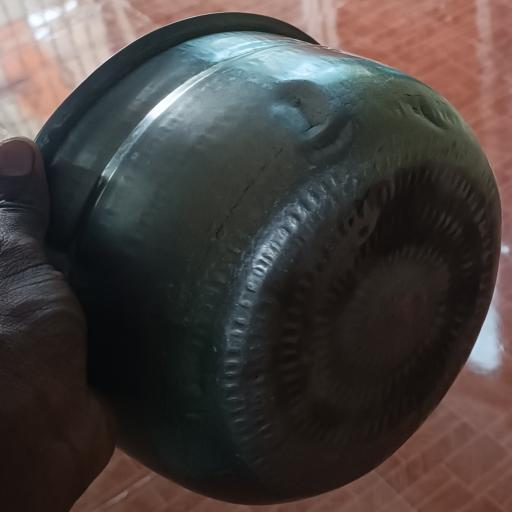vessel: (37, 13, 500, 503)
